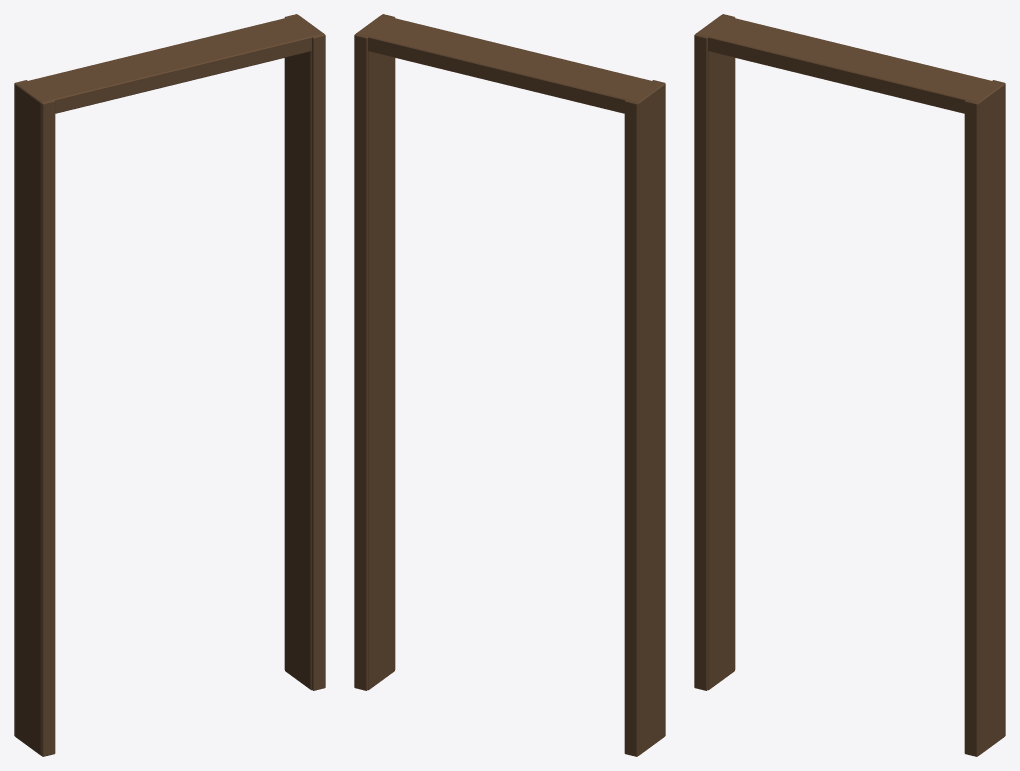
File: b21_door_empty_frame_1m.glb
3 views of the same model, side by side, from view 1: azimuth 30°, elevation 25°; view 2: azimuth 150°, elevation 25°; view 3: azimuth 330°, elevation 25° (orthographic).
Parts seen in each view (by area): view 1: b21_door_empty_frame_1m; view 2: b21_door_empty_frame_1m; view 3: b21_door_empty_frame_1m.
Boxes of the visible parts, bbox=[...] form: b21_door_empty_frame_1m: bbox=[14, 14, 325, 756]; b21_door_empty_frame_1m: bbox=[354, 14, 665, 756]; b21_door_empty_frame_1m: bbox=[694, 14, 1005, 756].
Size of the model in its own units: 1 by 2.2 by 0.176.
